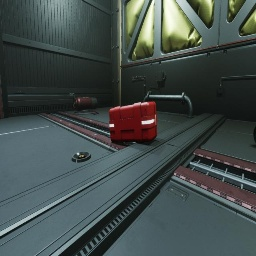FirstAidBox ,: (109, 101, 157, 143)
NitrogenTank ,: (73, 97, 98, 110)
